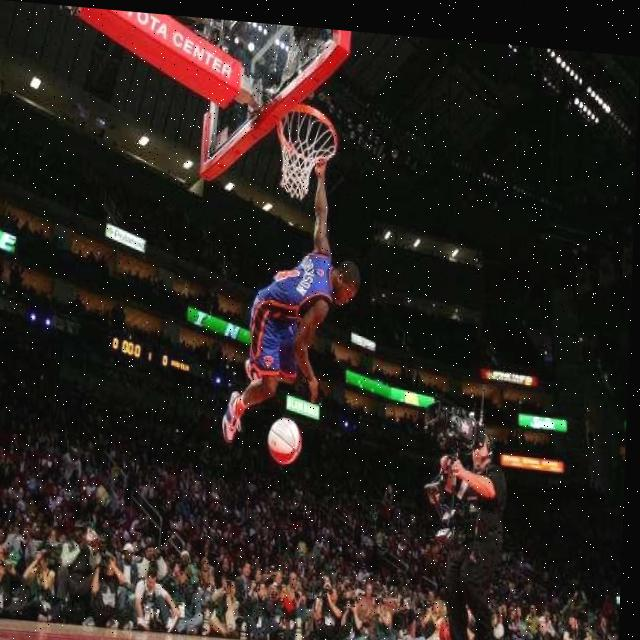basketball: (267, 416, 304, 468)
hoop: (277, 104, 340, 200)
